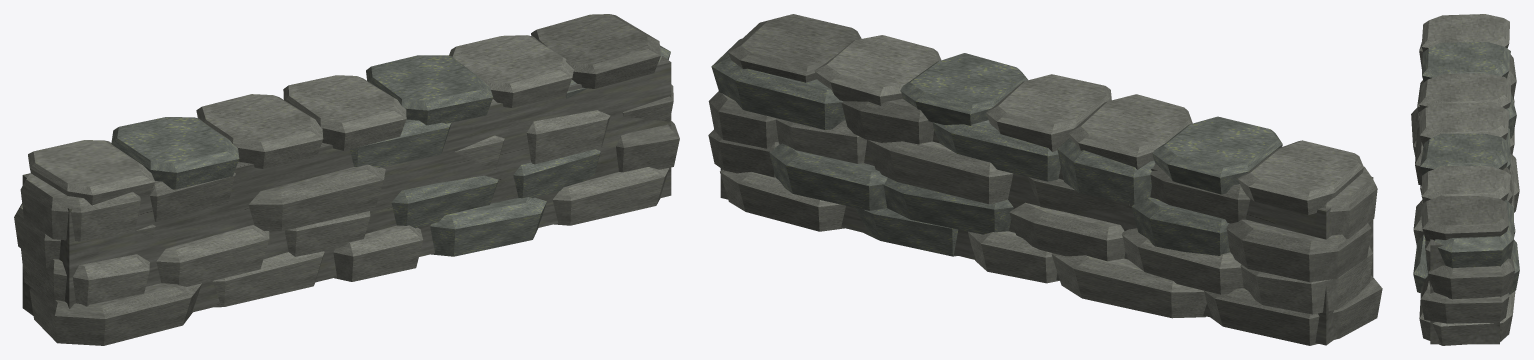
The model's file is wall.glb.
3 renders of one model, left to right at view 1: azimuth 30°, elevation 25°; view 2: azimuth 150°, elevation 25°; view 3: azimuth 270°, elevation 25°, orthographic. The views are drawn at different scales.
Visible parts, largest first — view 1: Merewatch wall; view 2: Merewatch wall; view 3: Merewatch wall.
Boxes of the visible parts, box(x1,y1,x2,y2) form: Merewatch wall: box(14, 14, 679, 345); Merewatch wall: box(708, 14, 1382, 345); Merewatch wall: box(1411, 14, 1519, 345).
Size of the model in its own units: 2.9 by 0.6945 by 0.5834.
Materials: 1 (1 with a texture image).
